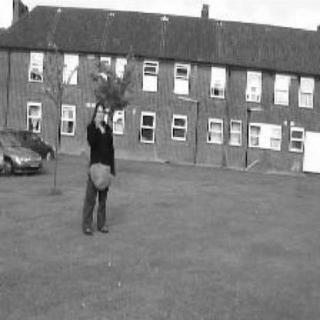other: (80, 158, 116, 192)
